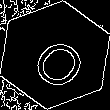O_NE: (20, 22, 90, 88)
